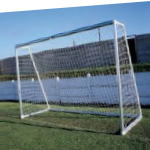goals: (13, 18, 144, 136)
